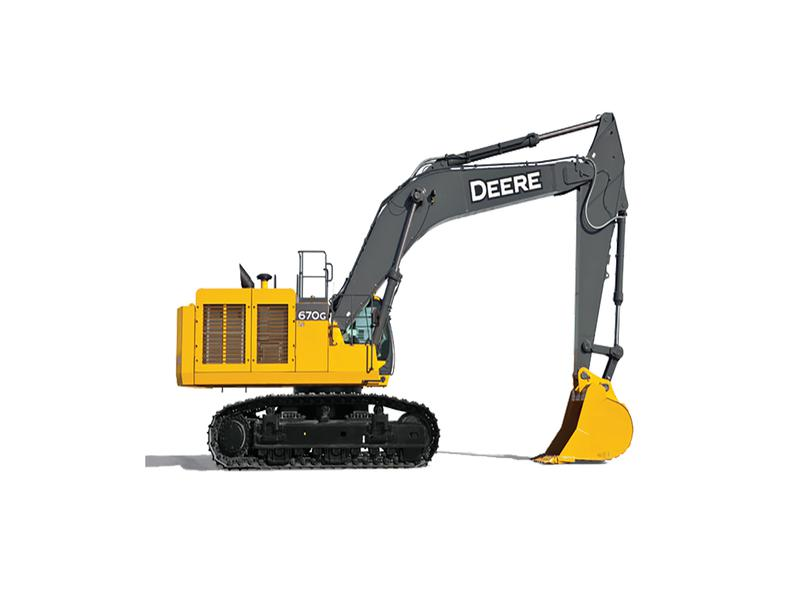shovel: (166, 105, 646, 477)
